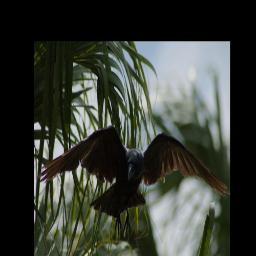Crow: (38, 123, 229, 236)
